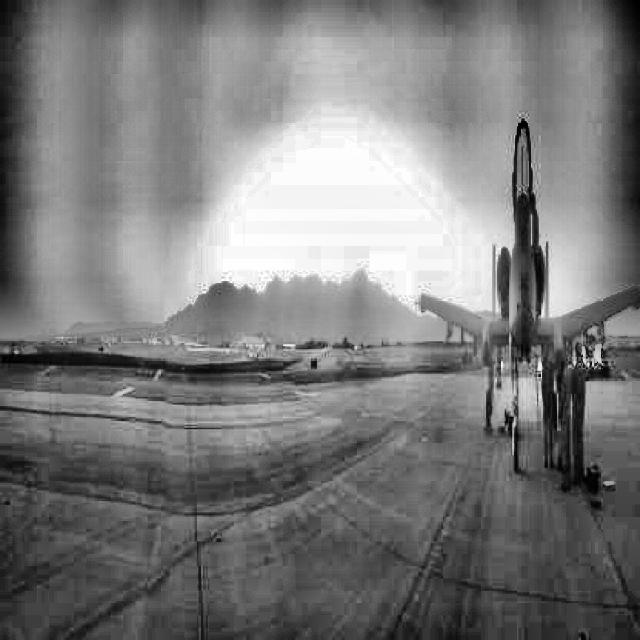A10: (414, 117, 638, 474)
